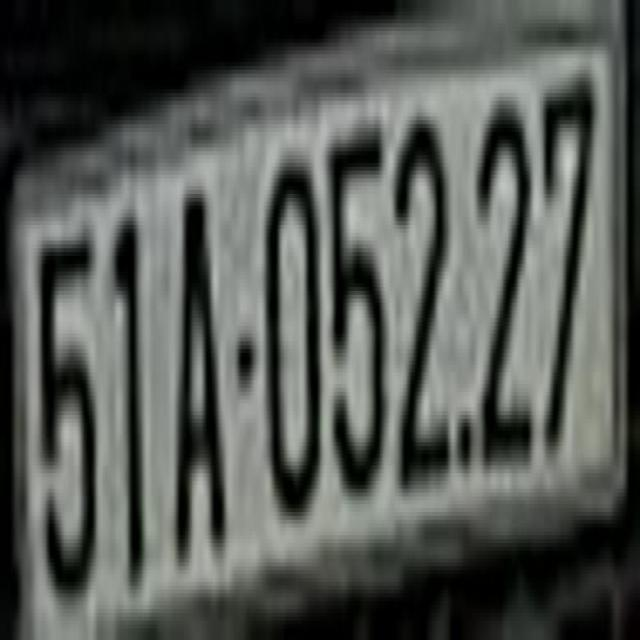0: (262, 144, 321, 532)
1: (110, 206, 153, 609)
2: (471, 93, 535, 477), (392, 112, 453, 496)
5: (36, 214, 99, 602), (327, 112, 386, 524)
7: (542, 78, 596, 470)
A: (171, 190, 232, 597)
